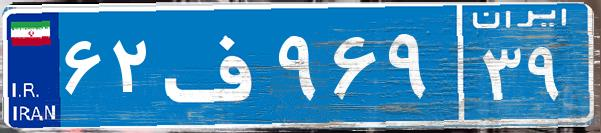2: (110, 28, 158, 105)
3: (475, 38, 525, 113)
6: (330, 28, 385, 110), (57, 26, 110, 107)
9: (385, 28, 445, 110), (273, 28, 330, 110), (525, 38, 570, 115)
ف: (158, 15, 273, 115)
